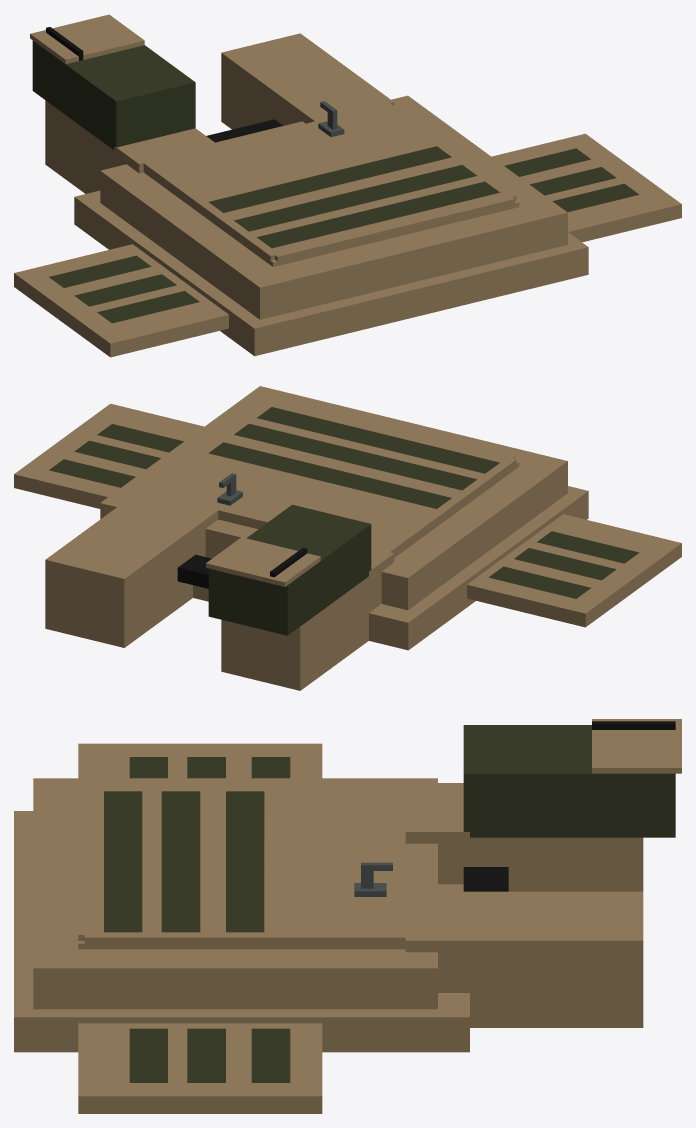
File: ballistic_vest_light_operator.glb
3 renders of one model, top to bottom at view 1: azimuth 30°, elevation 25°; view 2: azimuth 150°, elevation 25°; view 3: azimuth 270°, elevation 25°, orthographic. The views are drawn at different scales.
Visible parts, largest first — view 1: ballistic_vest_light_operator:compound; view 2: ballistic_vest_light_operator:compound; view 3: ballistic_vest_light_operator:compound.
Boxes of the visible parts, <box> form: ballistic_vest_light_operator:compound: <box>14,14,681,357</box>; ballistic_vest_light_operator:compound: <box>14,386,681,690</box>; ballistic_vest_light_operator:compound: <box>14,719,681,1113</box>.
Bounding box in the file's own units: 0.52 × 0.108 × 0.416.
